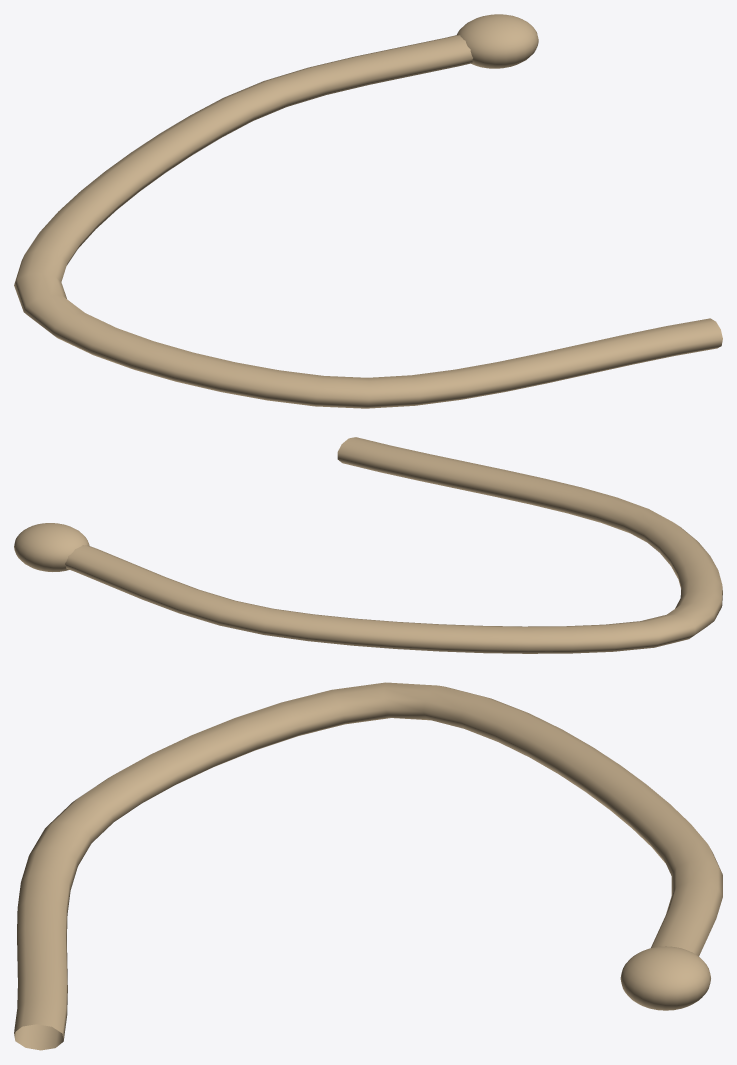
Rendered from right_rib_7.glb.
3 views of the same model, one above another, from view 1: azimuth 30°, elevation 25°; view 2: azimuth 150°, elevation 25°; view 3: azimuth 270°, elevation 25° (orthographic). The views are drawn at different scales.
Parts seen in each view (by area): view 1: right_rib_7:costal-body, right_rib_7:head; view 2: right_rib_7:costal-body, right_rib_7:head; view 3: right_rib_7:costal-body, right_rib_7:head.
Boxes of the visible parts, box(x1,y1,x2,y2) form: right_rib_7:costal-body: box(14, 35, 722, 408); right_rib_7:head: box(457, 14, 538, 68); right_rib_7:costal-body: box(65, 437, 722, 653); right_rib_7:head: box(14, 523, 89, 571); right_rib_7:costal-body: box(14, 682, 722, 1050); right_rib_7:head: box(620, 946, 710, 1010).
Size of the model in its own units: 0.7102 by 0.1206 by 0.603.
